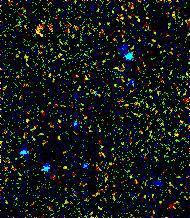star: (114, 72, 144, 102)
